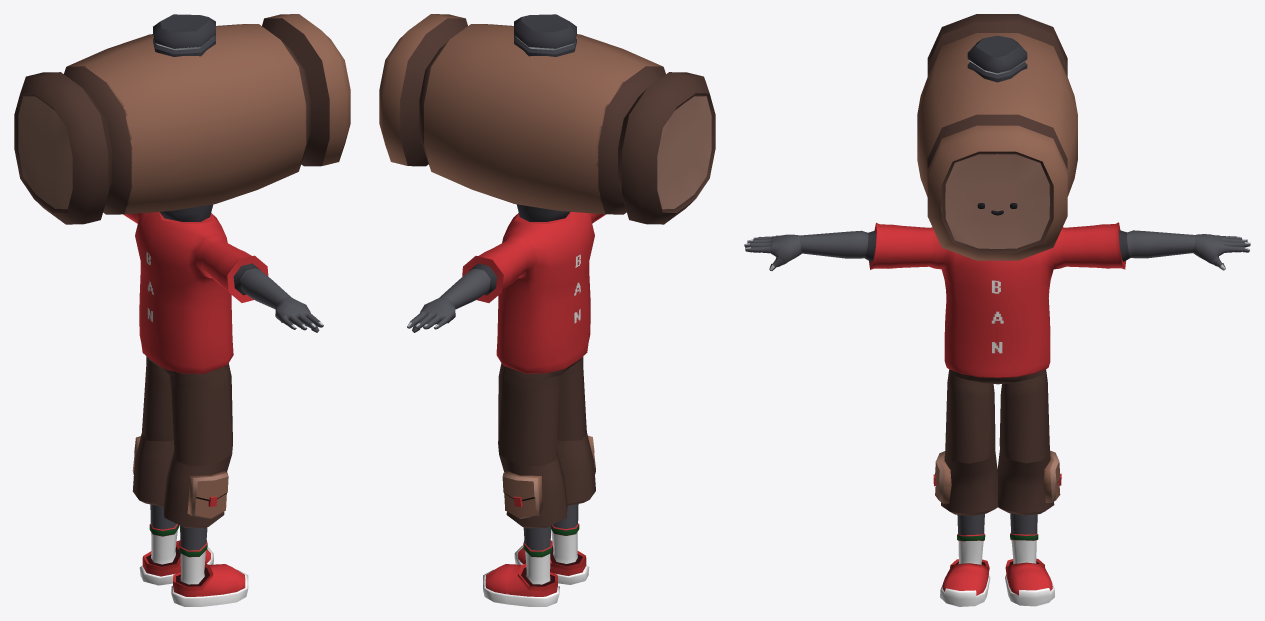
File: Ban Hammer Dude.glb
3 views of the same model, side by side, from view 1: azimuth 30°, elevation 25°; view 2: azimuth 150°, elevation 25°; view 3: azimuth 270°, elevation 25° (orthographic). The views are drawn at different scales.
Parts seen in each view (by area): view 1: _100Avatars_112_BanHammerDude; view 2: _100Avatars_112_BanHammerDude; view 3: _100Avatars_112_BanHammerDude.
Boxes of the visible parts, bbox=[...] form: _100Avatars_112_BanHammerDude: bbox=[14, 14, 350, 606]; _100Avatars_112_BanHammerDude: bbox=[379, 14, 715, 606]; _100Avatars_112_BanHammerDude: bbox=[744, 14, 1250, 606].
Size of the model in its own units: 2.88 by 5.52 by 4.69.
Materials: 1 (1 with a texture image).
